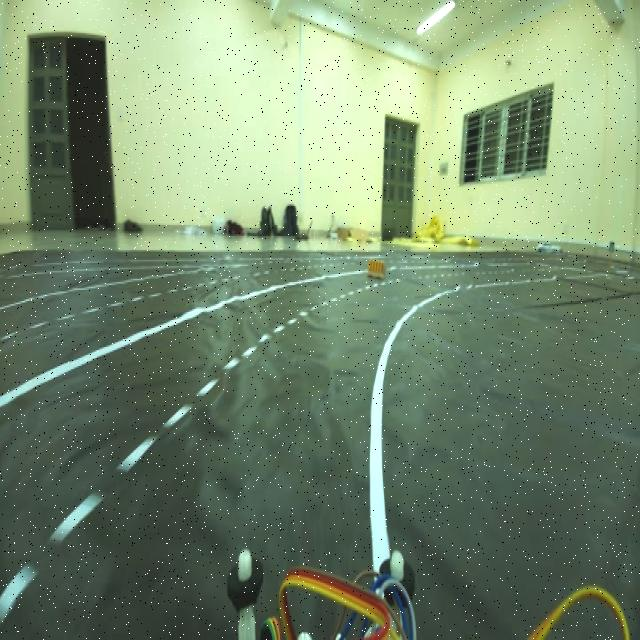roadblock: (364, 253, 388, 280)
